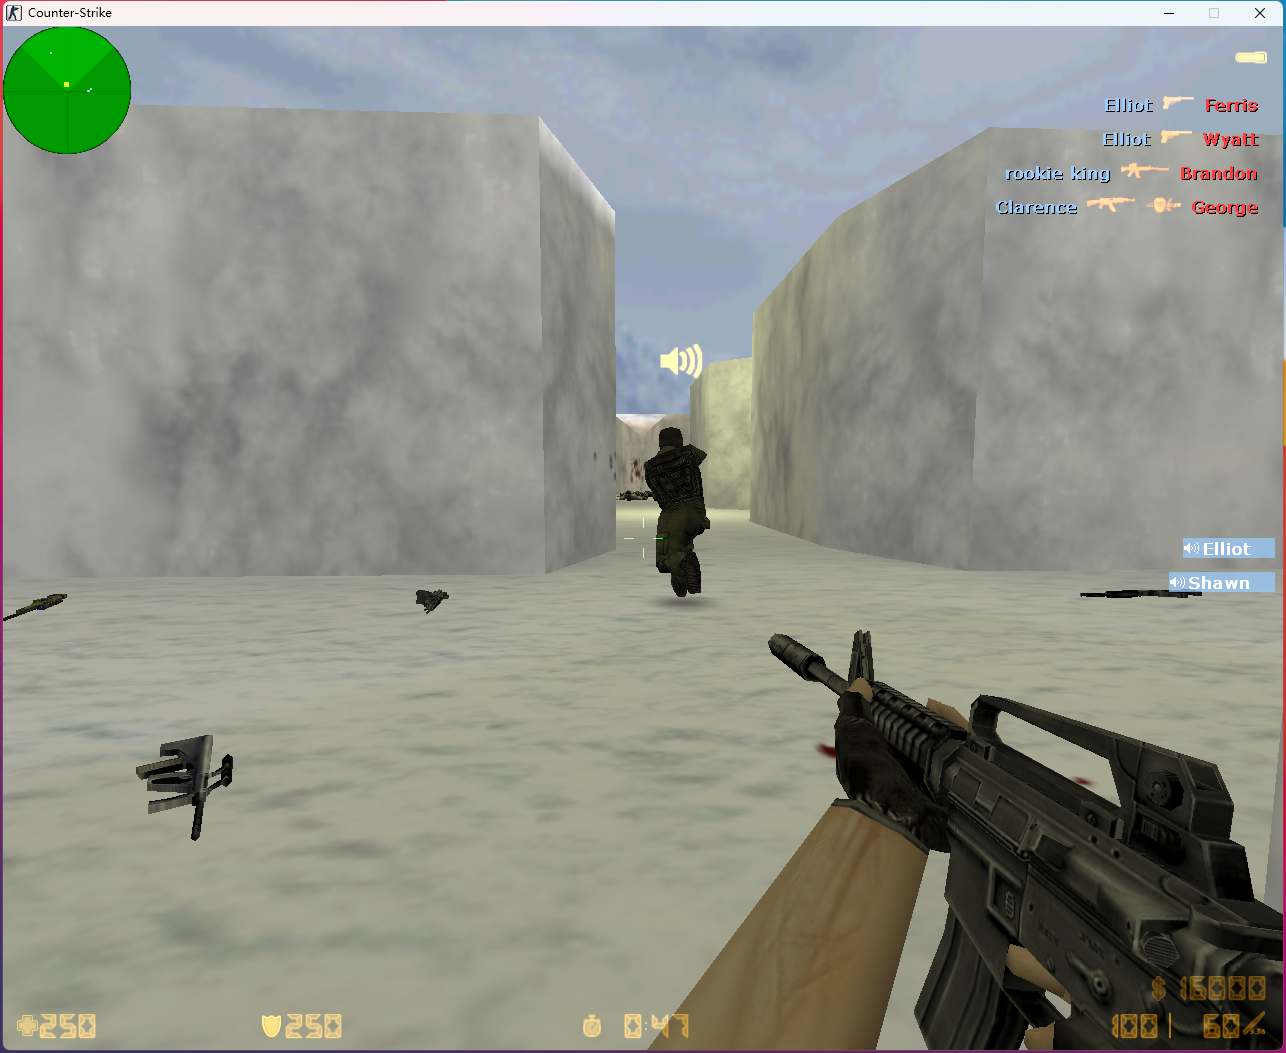C: (643, 426, 713, 597)
dead: (622, 491, 654, 503)
weapon: (131, 733, 240, 842), (1061, 582, 1206, 603), (2, 590, 70, 627), (409, 581, 452, 616)
